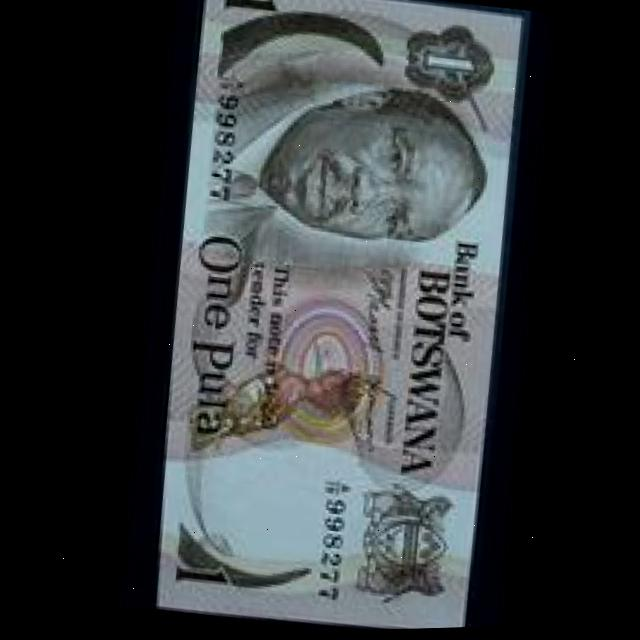banknote: (117, 0, 547, 637)
